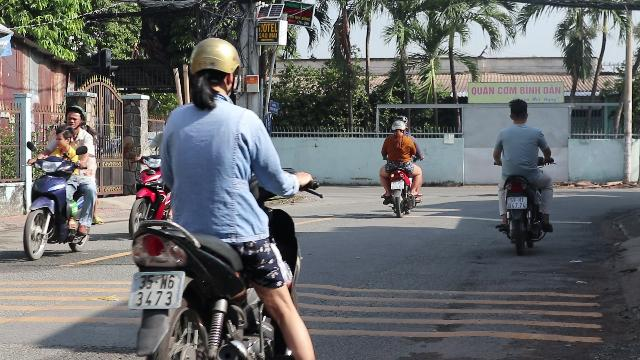helmet: (186, 36, 242, 102), (63, 105, 85, 132)
licenseplate: (128, 272, 182, 308), (507, 197, 527, 209)
motorcyclist: (120, 36, 320, 356), (20, 102, 100, 258), (490, 98, 556, 252)
nohelmet: (506, 98, 530, 124), (53, 126, 73, 148)
